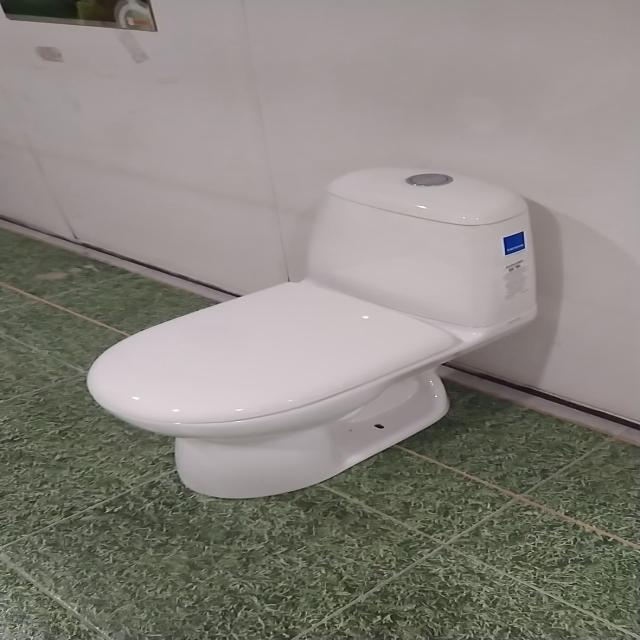toilet: (84, 166, 538, 499)
